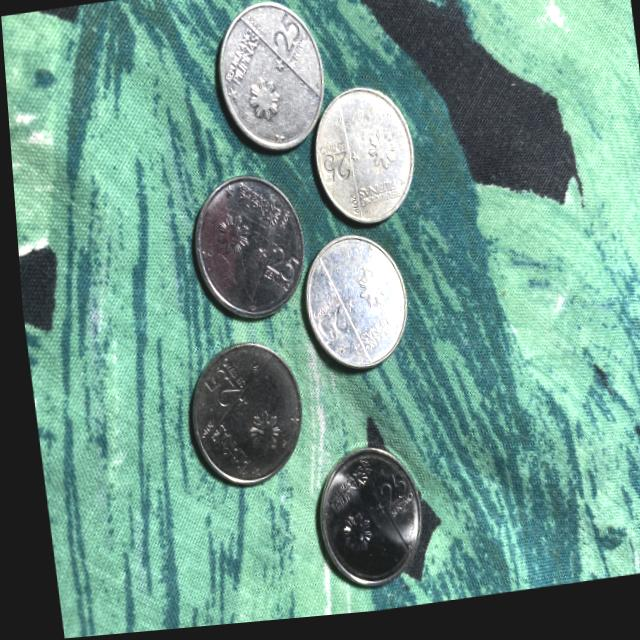25Cent_New_Front: (257, 241, 296, 296), (362, 472, 403, 518), (198, 369, 235, 414), (306, 310, 343, 352), (270, 18, 301, 65), (314, 153, 347, 192)
